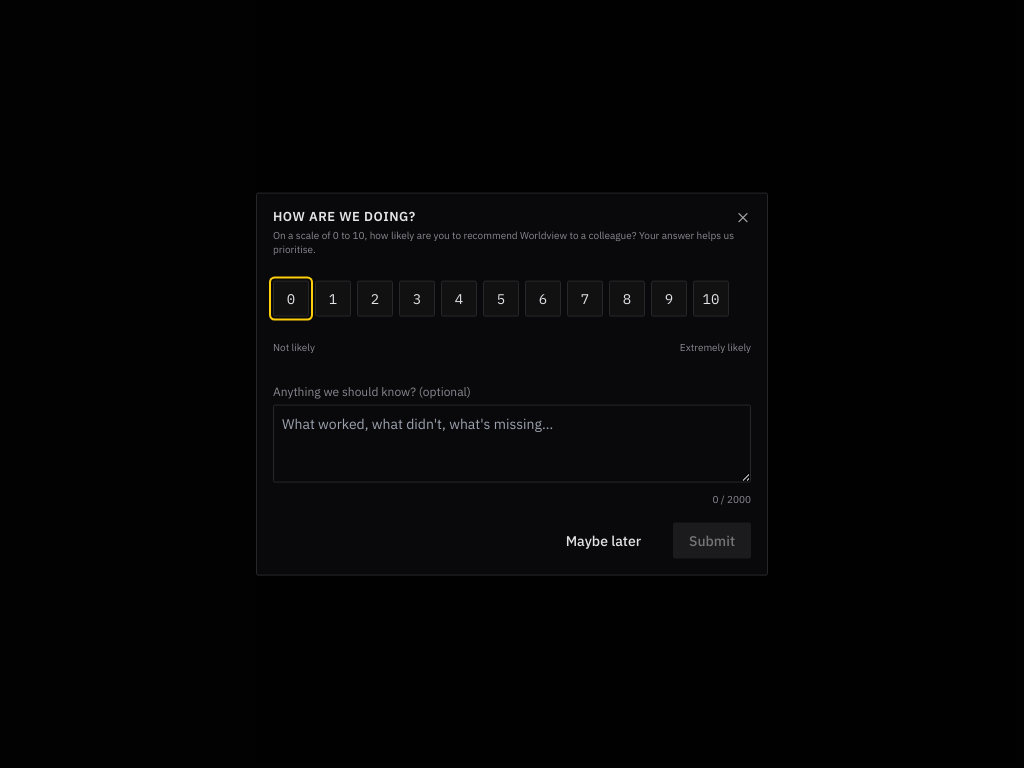
Test: NPSPrompt › renders 0..10 buttons and disables submit until a score is picked
This screenshot has width=1024, height=768.
Expected: the radio button labelled "0" is shown, [273,281,309,317]
Expected: the radio button labelled "1" is shown, [315,281,351,317]
Click the radio button labelled "9" at point(669, 299), box [651,281,687,317]
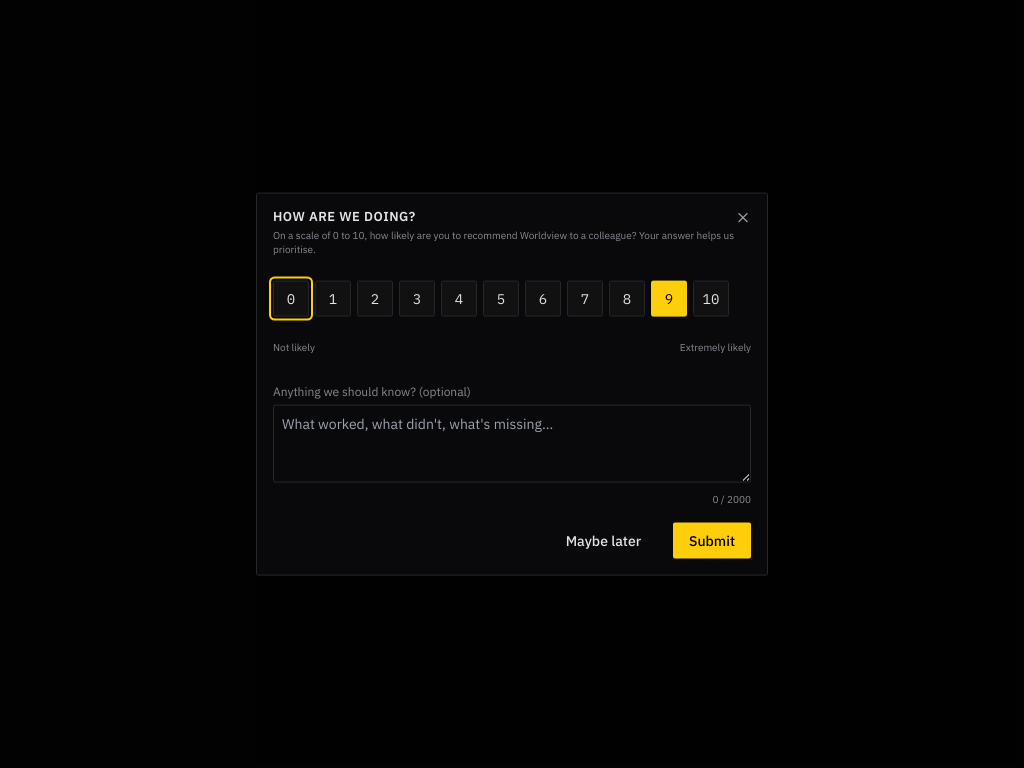
Now the button "Submit" is enabled, box [673,522,751,558]
